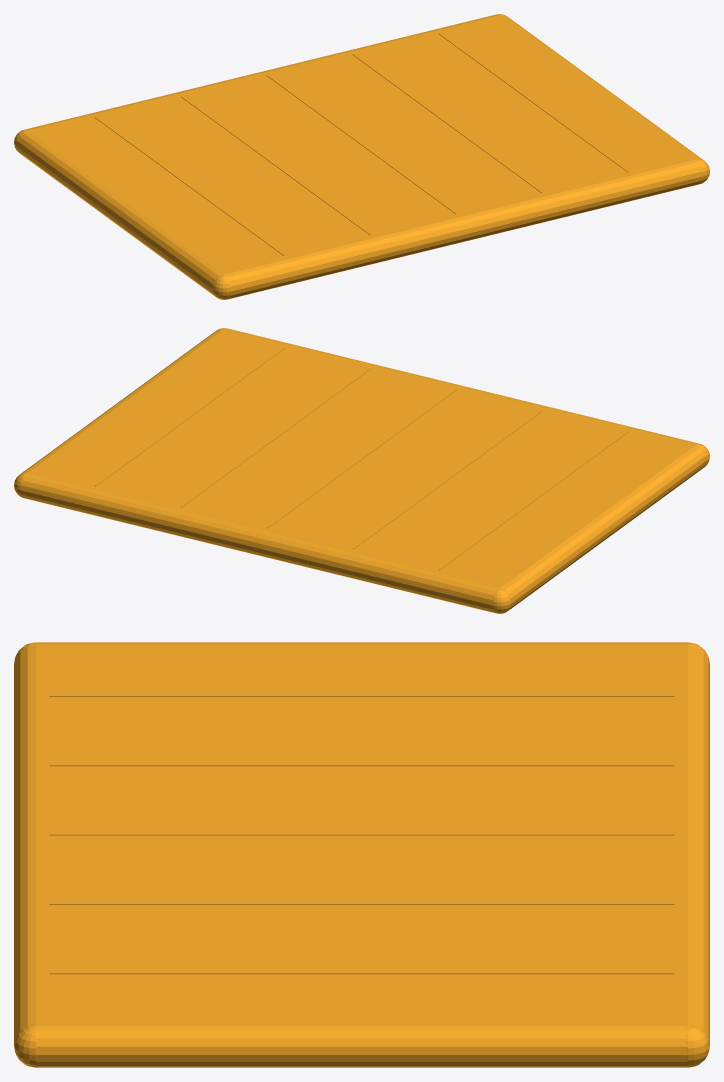
The model's file is villa-roof-west.glb.
3 renders of one model, top to bottom at view 1: azimuth 30°, elevation 25°; view 2: azimuth 150°, elevation 25°; view 3: azimuth 270°, elevation 25°, orthographic. The views are drawn at different scales.
Parts seen in each view (by area): view 1: villa-roof-west; view 2: villa-roof-west; view 3: villa-roof-west.
Boxes of the visible parts, left/top/right/bottom form: villa-roof-west: left=14, top=14, right=709, bottom=299; villa-roof-west: left=14, top=328, right=709, bottom=613; villa-roof-west: left=14, top=642, right=709, bottom=1067.
Size of the model in its own units: 22.65 by 1.08 by 16.65.
